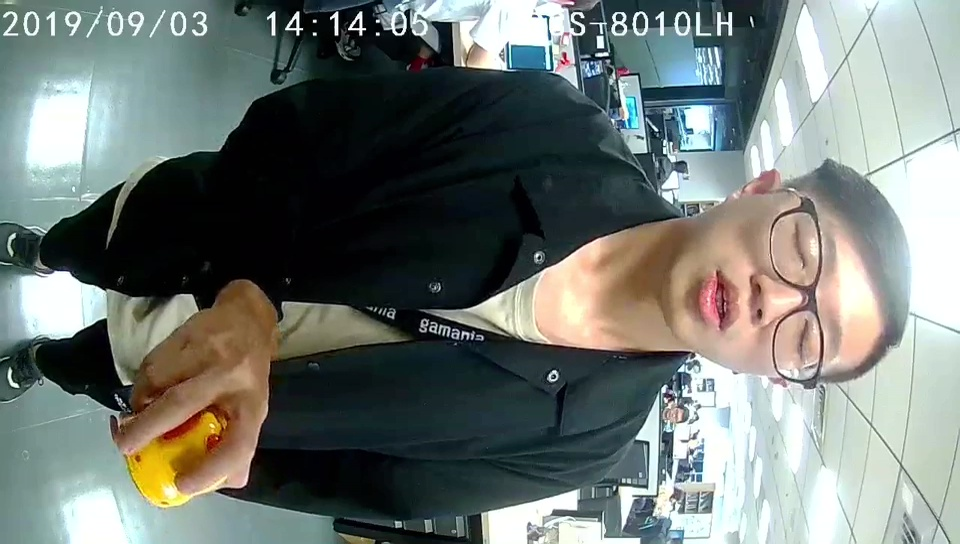car: (125, 407, 232, 508)
